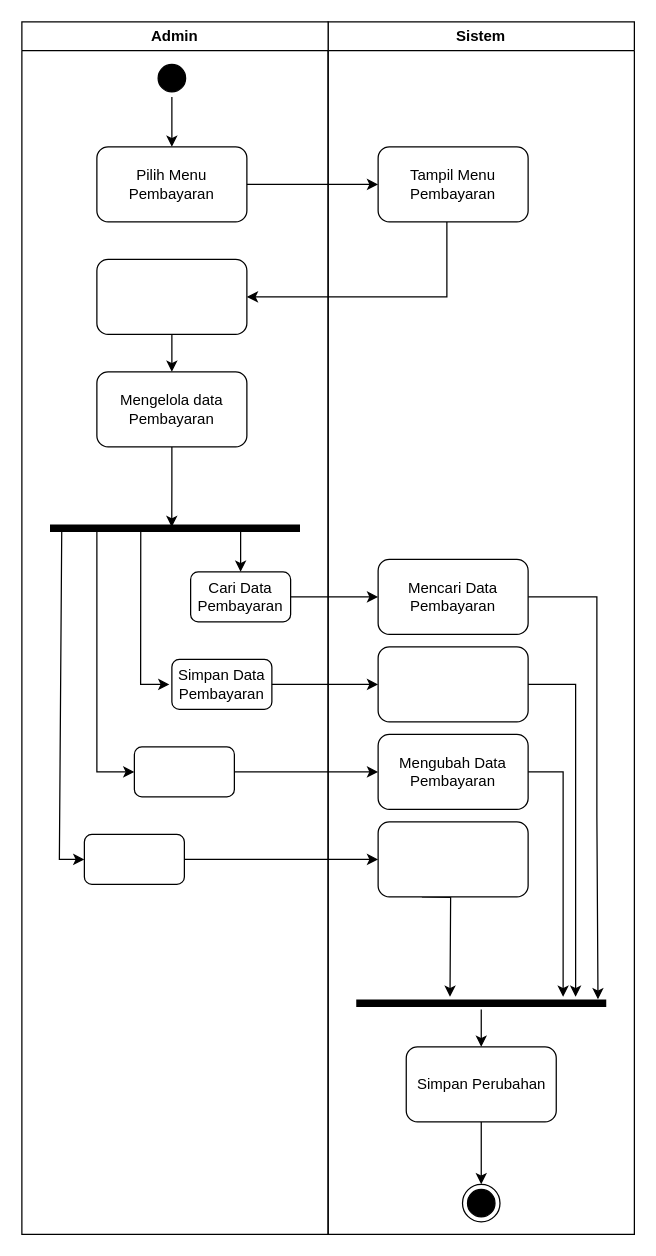
Some shapes in this 656 by 1256 pixel diagram are drawn without their labels. Here are the shapes that lost their labels. From the top down, the centre of each, then its label:
At (x=171, y=296): "Melihat data Pembayaran".
At (x=452, y=684): "Menyimpan Data Pembayaran".
At (x=183, y=771): "Ubah Data Pembayaran".
At (x=133, y=858): "Hapus Data Pembayaran".
At (x=452, y=859): "Menghapus Data Pembayaran".
